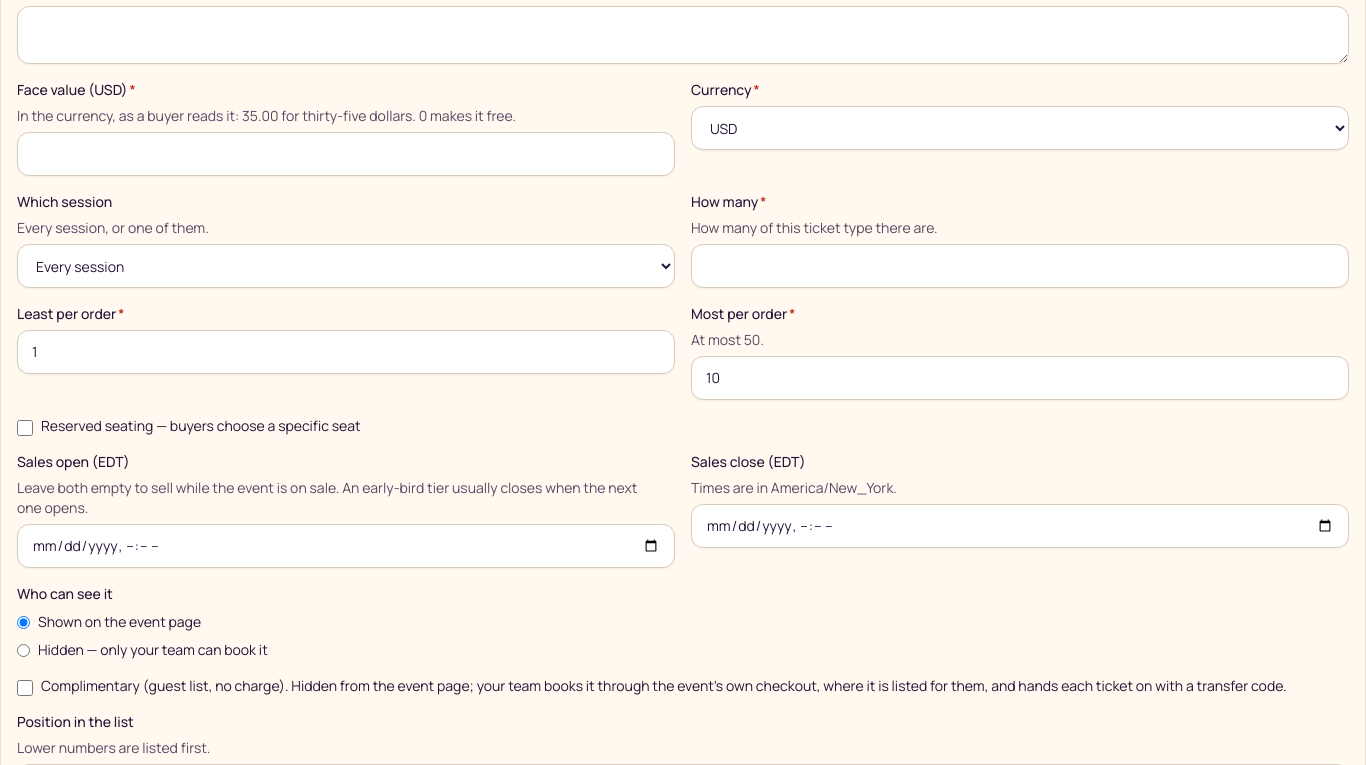
Test case: adding a ticket type › offers the zones of a mapped session once reserved is ticked, and no quantity
The width and height of the screenshot is (1366, 765).
(page scrolled)
Expected: the number field labelled "How many*" is shown, [691,244,1349,288]
Click the checkbox labelled "Reserved seating — buyers choose a specific seat" at [25, 428], box [17,420,33,436]
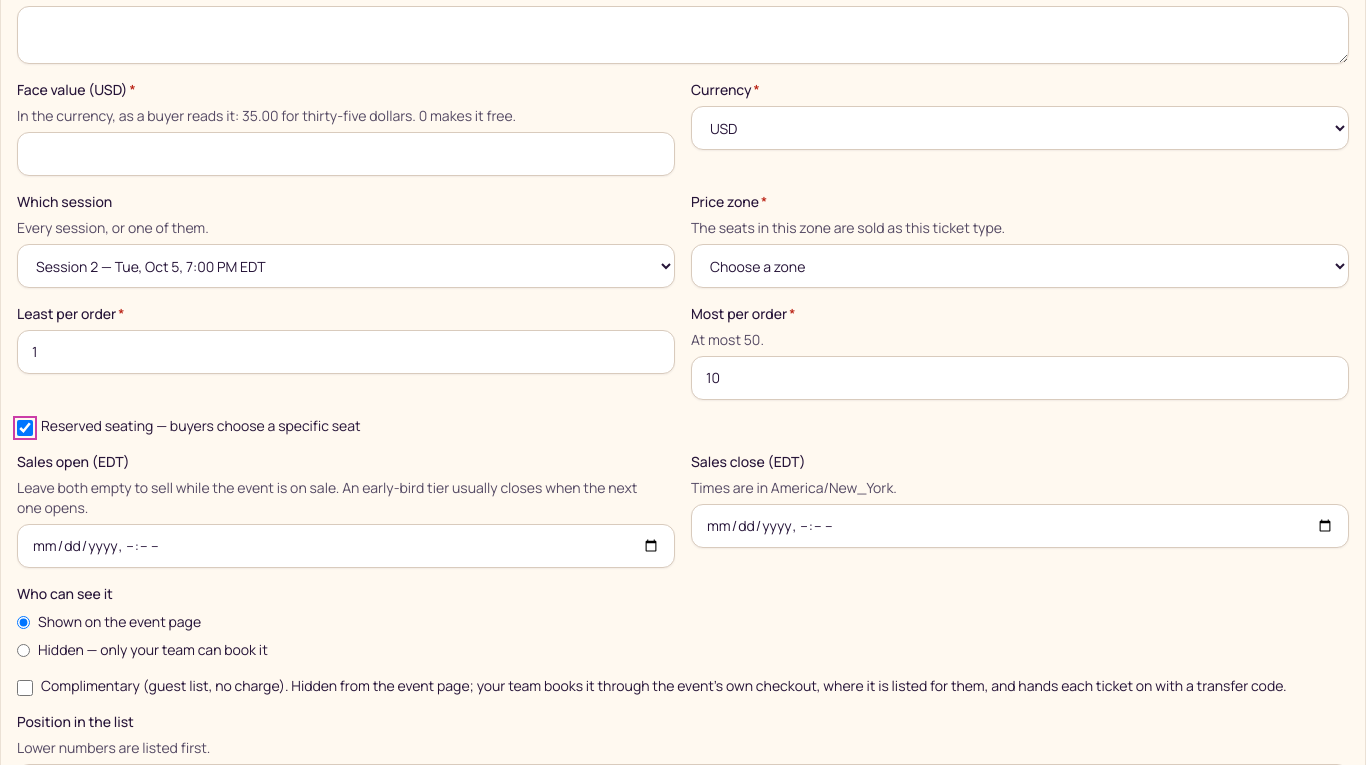
Expected: the label labelled "How many" is gone
Expected: the dropdown labelled "Which session" shows "Session 2 — Tue, Oct 5, 7:00 PM EDT", [17,244,675,288]
